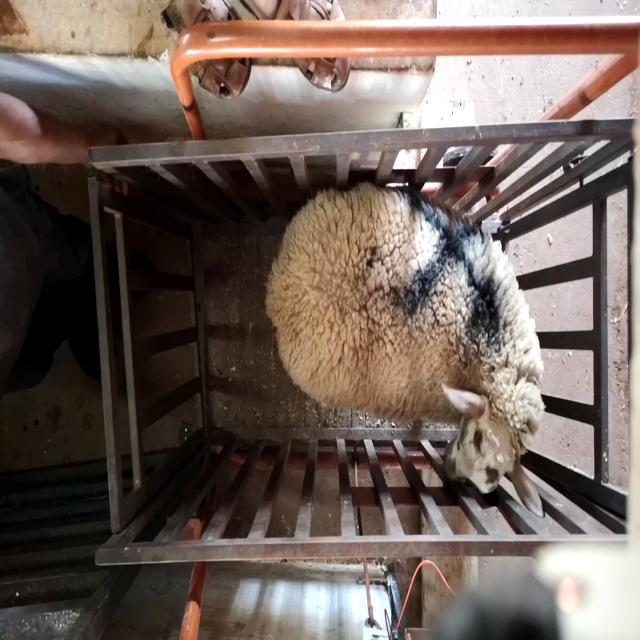sheep: (265, 181, 546, 517)
